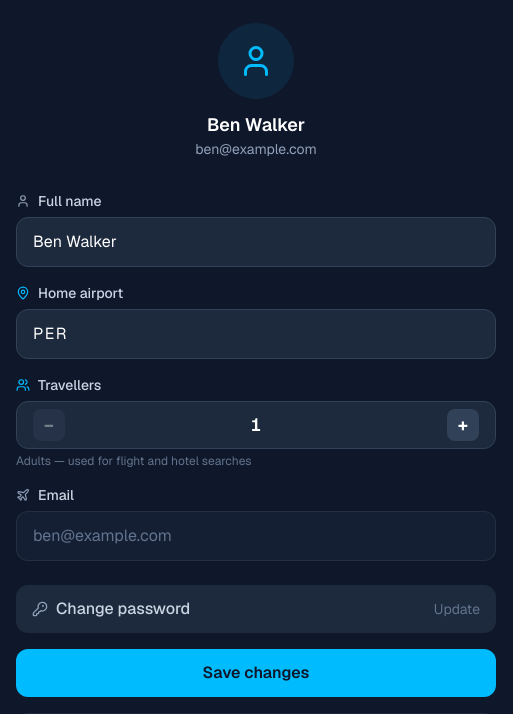
Test case: ProfilePage › expands the password section when the toggle is clicked
Click the text "Change password" at (111, 609), box top-left (32, 597), bottom-right (190, 621)
(page scrolled)
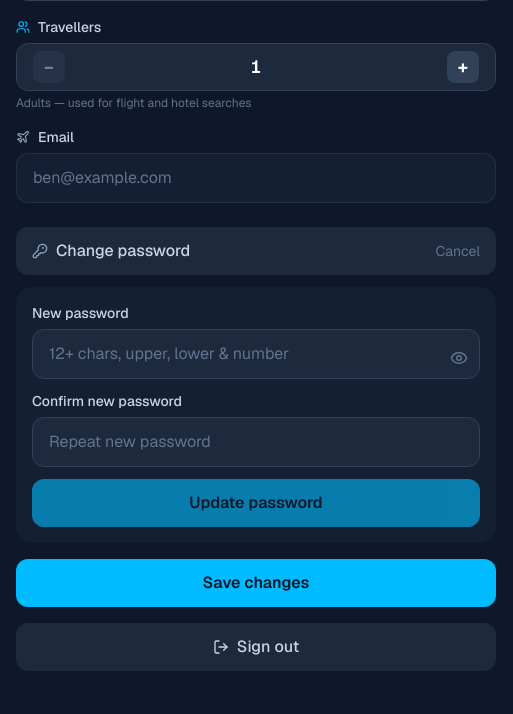
Expected: the password field labelled "New password" is shown, top-left (32, 329), bottom-right (480, 379)
Expected: the password field labelled "Confirm new password" is shown, top-left (32, 417), bottom-right (480, 467)
